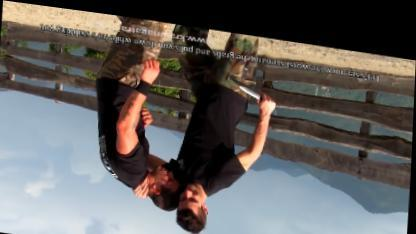knife: (235, 72, 278, 100)
